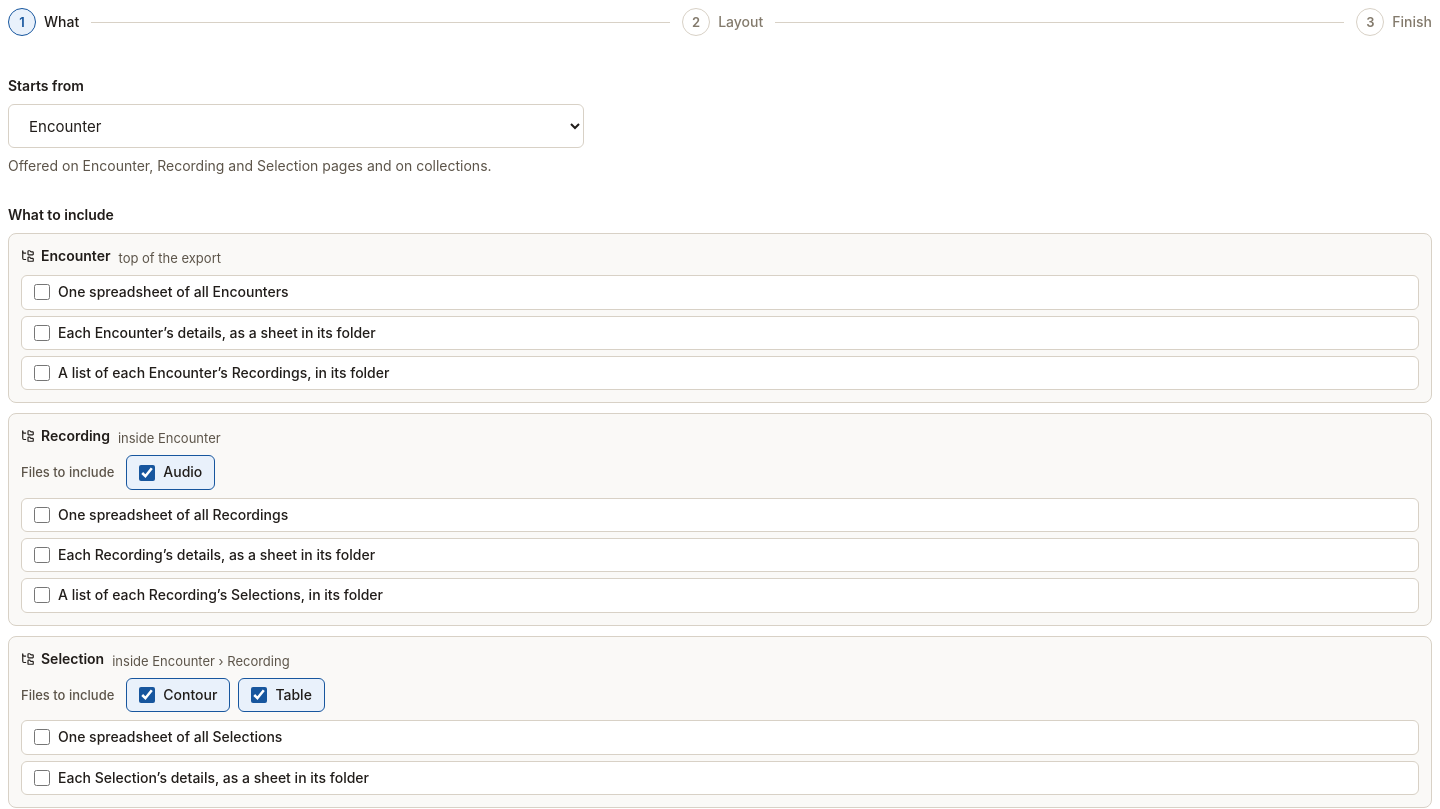
the export builder, step by step › offers a filter only when the files come from one kind
expect the button "Only some" is not shown: met
Click the checkbox labelled "Audio": (147, 473) top-left (139, 465), bottom-right (155, 481)
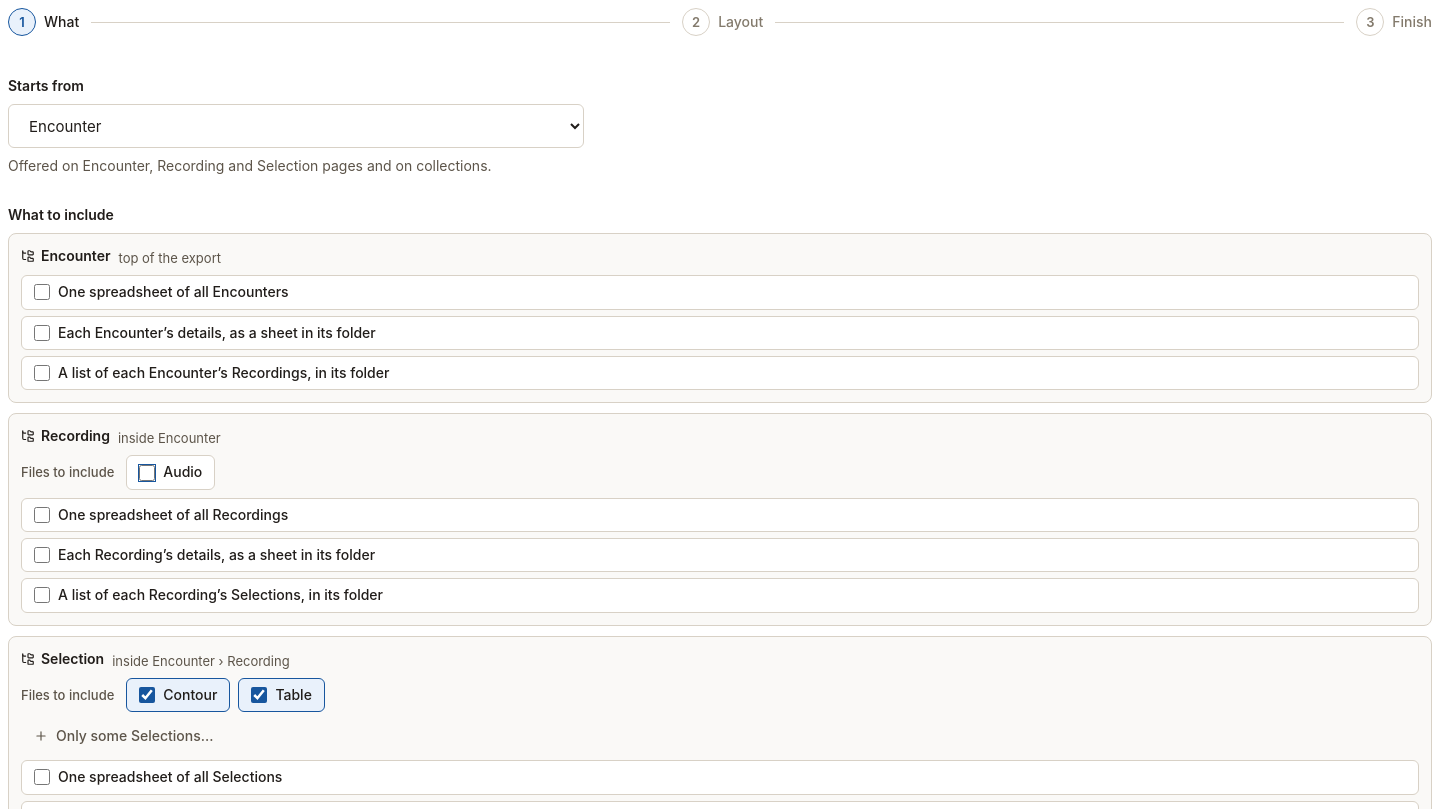
expect the button "Only some Selections…" is shown: met, box top-left (21, 720), bottom-right (226, 752)
